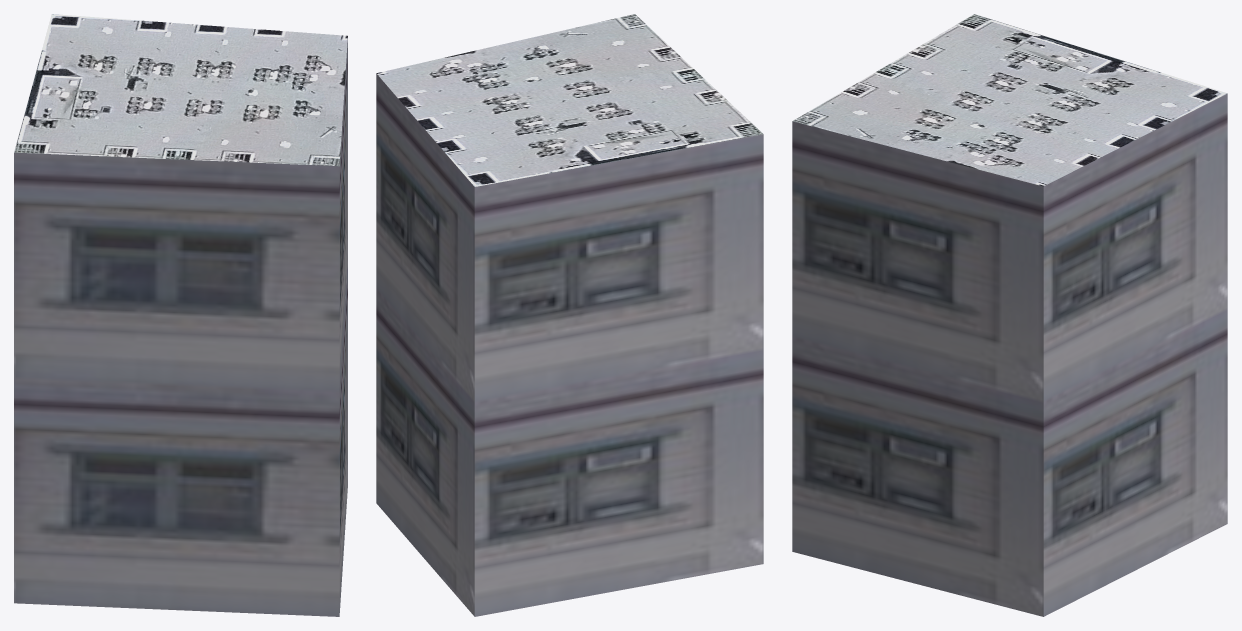
Rendered from ResTex__4630.fbx.
3 views of the same model, side by side, from view 1: azimuth 30°, elevation 25°; view 2: azimuth 150°, elevation 25°; view 3: azimuth 270°, elevation 25° (orthographic). The views are drawn at different scales.
Visible parts, largest first — view 1: CityEngineMaterial_1_m, CityEngineMaterial_m; view 2: CityEngineMaterial_1_m, CityEngineMaterial_m; view 3: CityEngineMaterial_1_m, CityEngineMaterial_m.
Part boxes in pixels (x1=…): CityEngineMaterial_1_m: x1=14, y1=38, x2=347, y2=616; CityEngineMaterial_m: x1=14, y1=14, x2=347, y2=166; CityEngineMaterial_1_m: x1=376, y1=74, x2=763, y2=616; CityEngineMaterial_m: x1=376, y1=14, x2=763, y2=186; CityEngineMaterial_1_m: x1=792, y1=93, x2=1227, y2=616; CityEngineMaterial_m: x1=792, y1=14, x2=1226, y2=186.
Bounding box in the file's own units: 5.15 × 6 × 5.5.
Materials: 2 (2 with a texture image).
